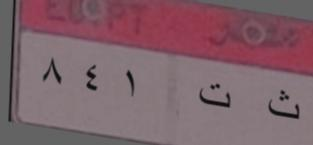1: (120, 61, 144, 103)
4: (83, 59, 102, 98)
8: (40, 53, 63, 92)
taa: (197, 80, 232, 114)
thaa: (263, 82, 304, 126)
